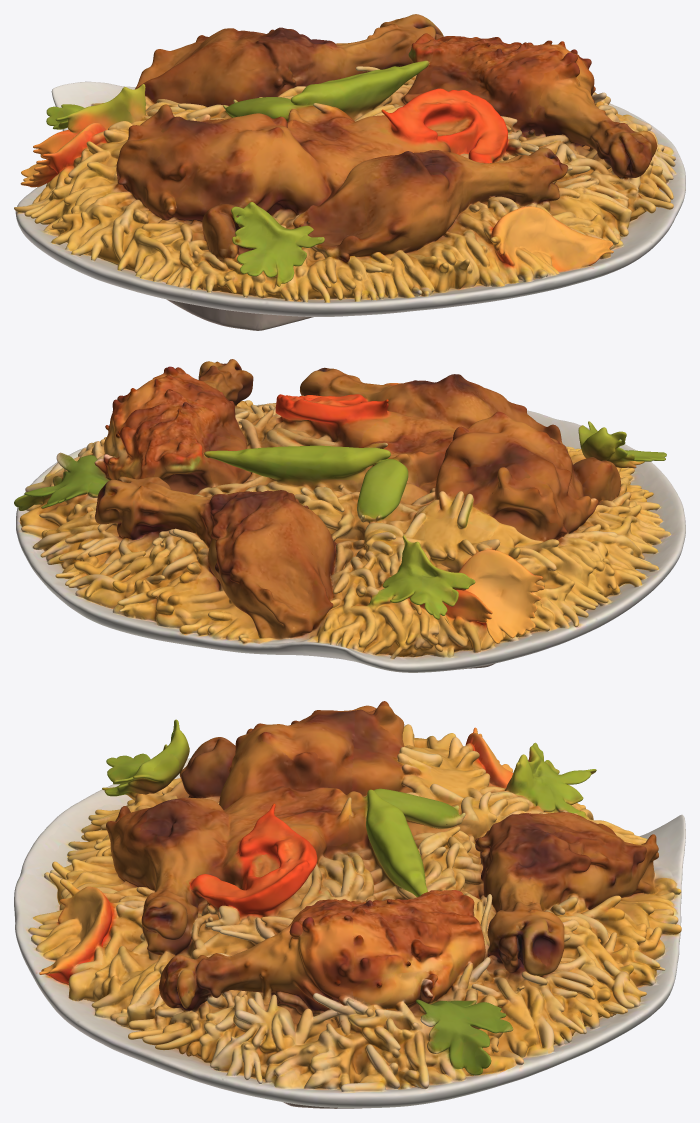
Rendered from chicken biryani.glb.
3 views of the same model, one above another, from view 1: azimuth 30°, elevation 25°; view 2: azimuth 150°, elevation 25°; view 3: azimuth 270°, elevation 25° (orthographic). The views are drawn at different scales.
Visible parts, largest first — view 1: tripo_node_196577ef-1ad4-4231-b999-bb936f1785a9; view 2: tripo_node_196577ef-1ad4-4231-b999-bb936f1785a9; view 3: tripo_node_196577ef-1ad4-4231-b999-bb936f1785a9.
Boxes of the visible parts, <box> form: tripo_node_196577ef-1ad4-4231-b999-bb936f1785a9: <box>14,14,685,330</box>; tripo_node_196577ef-1ad4-4231-b999-bb936f1785a9: <box>14,359,685,672</box>; tripo_node_196577ef-1ad4-4231-b999-bb936f1785a9: <box>14,701,685,1108</box>.
Size of the model in its own units: 1 by 0.306 by 0.8719.
Materials: 1 (1 with a texture image).
